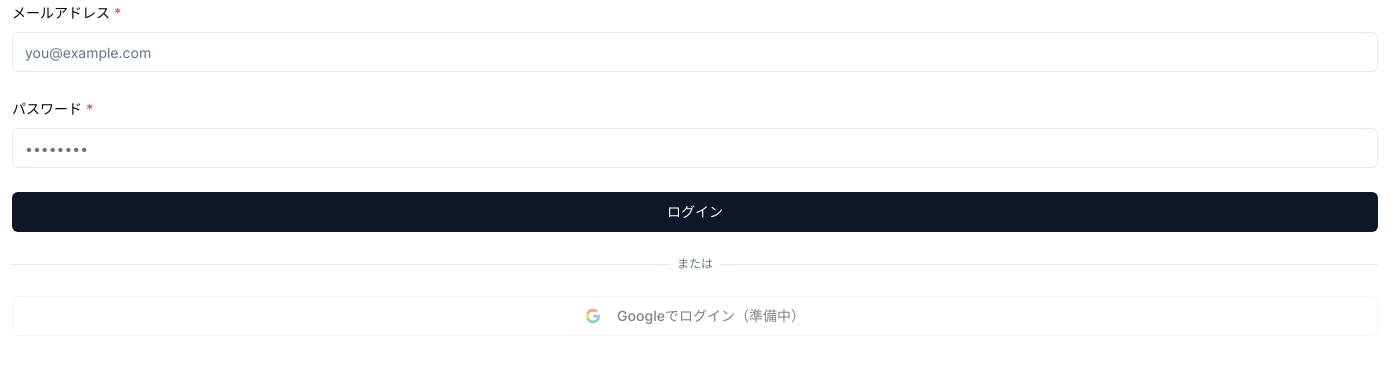
Test: LoginForm › バリデーション › パスワード文字数不足: 8文字未満のパスワードでバリデーションエラーが表示されること
The width and height of the screenshot is (1390, 381).
Type "test@example.com" into the field labelled "メールアドレス*" at (695, 52), box [12,32,1378,72]
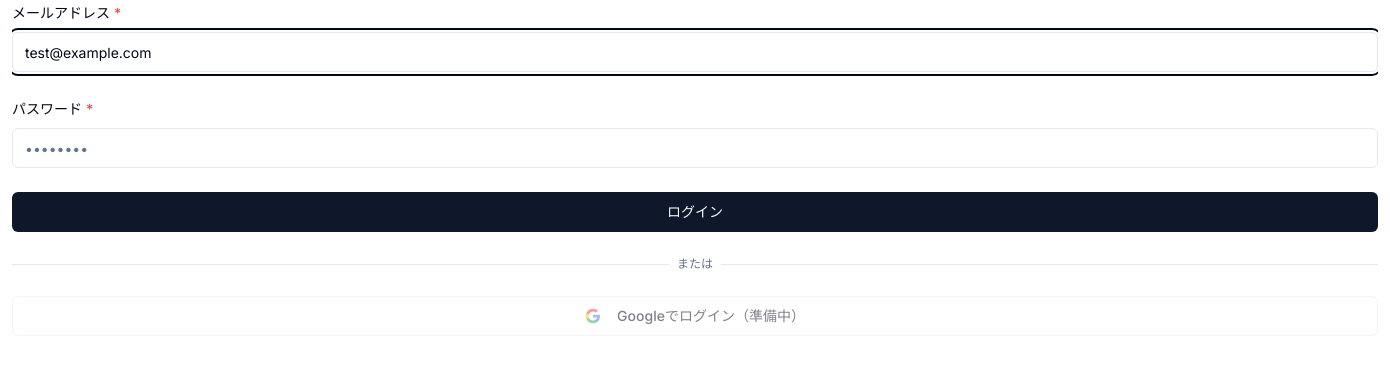
Type "Pass123" into the password field labelled "パスワード*" at (695, 148), box [12,128,1378,168]
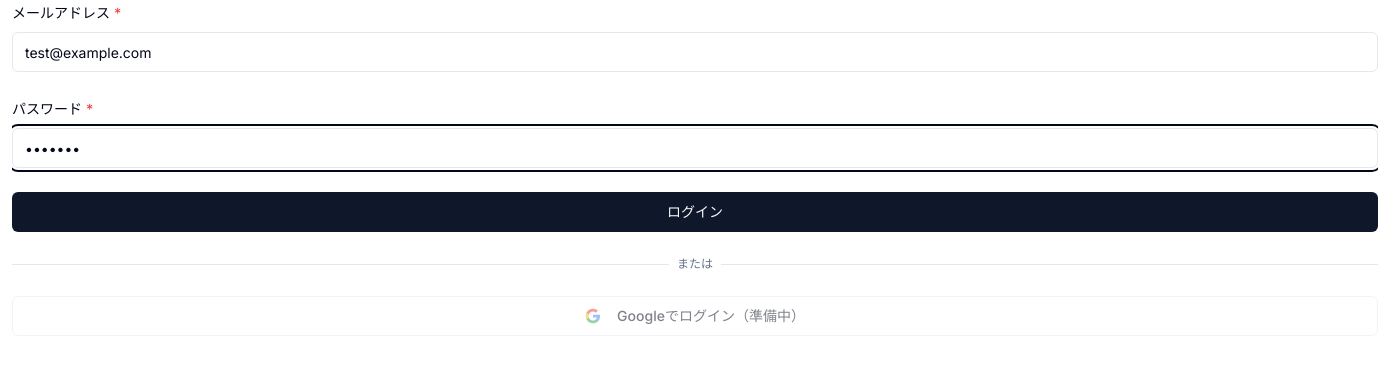
Click the button "ログイン" at (695, 212), box [12,192,1378,232]
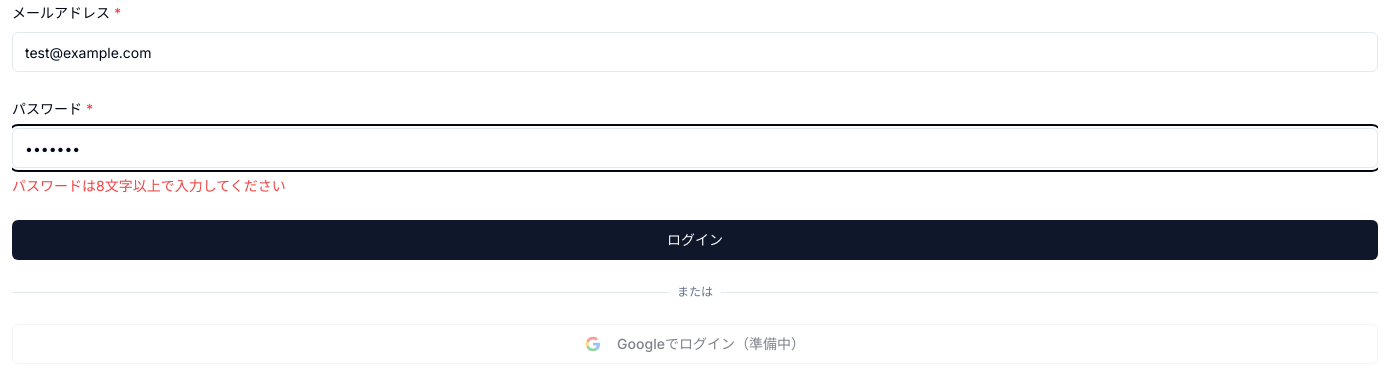
Check: the text "パスワードは8文字以上で入力してください" is shown, box [12,177,286,194]
